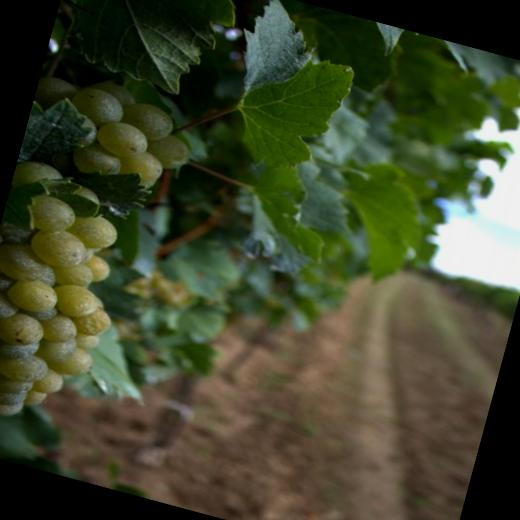Orange: (0, 65, 206, 445)
